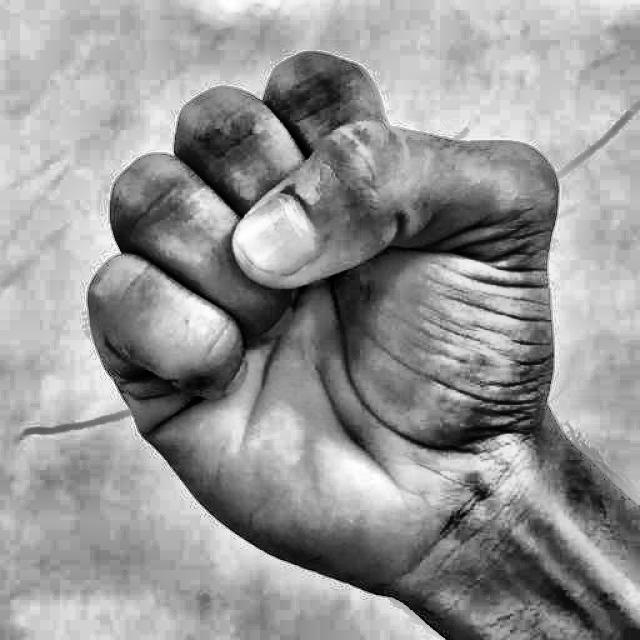Sha: (62, 21, 592, 639)
